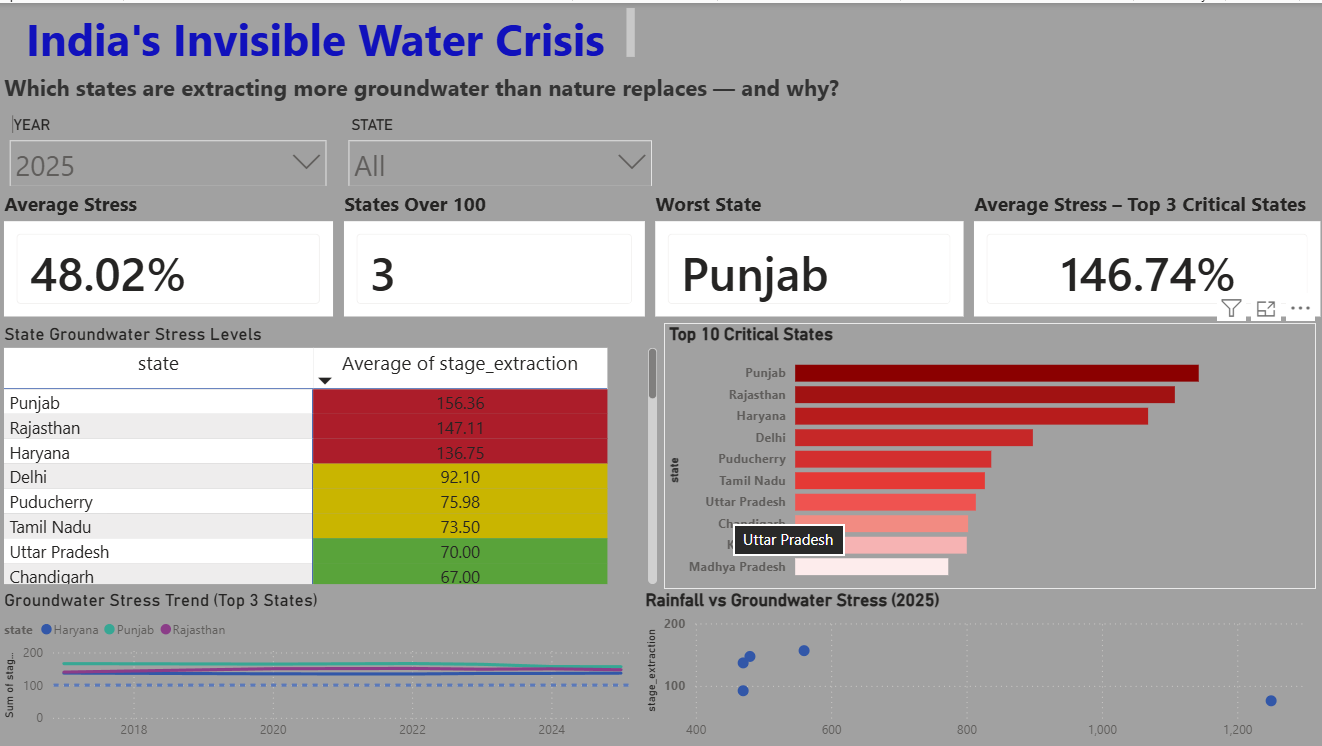

What the dashboard file says about the page in this screenshot:
{"tool":"powerbi","page":{"name":"Overview","canvas":[1280,720],"ordinal":0},"visuals":[{"type":"textbox","box":[0,0,618.6,61.4],"z":0},{"type":"textbox","box":[0,61.4,1087.1,42.9],"z":1000},{"type":"slicer","fields":{"Values":["public groundwater.year"]},"box":[0,104.3,325.7,72.9],"z":2000},{"type":"slicer","fields":{"Values":["public groundwater.state"]},"box":[327.1,104.3,312.9,72.9],"z":3000},{"type":"cardVisual","title":"Average Stress","fields":{"Data":["public groundwater.Avg Stage Extraction"]},"box":[0,181.4,327.1,127.1],"z":4000},{"type":"cardVisual","title":"Worst State","fields":{"Data":["public groundwater.Worst State"]},"box":[628.6,181.4,307.1,127.1],"z":5000},{"type":"cardVisual","title":"States Over 100","fields":{"Data":["public groundwater.States Over 100"]},"box":[328.6,181.4,300,127.1],"z":6000},{"type":"cardVisual","title":"Average Stress – Top 3 Critical States","fields":{"Data":["public groundwater.Avg Stage Extraction"]},"box":[935.7,181.4,344.3,127.1],"z":7000},{"type":"pivotTable","title":"State Groundwater Stress Levels","fields":{"Rows":["public groundwater.state"],"Values":["Avg(public groundwater.stage_extraction)"]},"box":[0,308.6,640,257.1],"z":8000},{"type":"clusteredBarChart","title":"Top 10 Critical States","fields":{"Category":["public groundwater.state"],"Y":["Avg(public groundwater.stage_extraction)"]},"box":[641.4,308.6,630,257.1],"z":9000},{"type":"lineChart","title":"Groundwater Stress Trend (Top 3 States)","fields":{"Category":["public groundwater.year"],"Y":["Sum(public groundwater.stage_extraction)"],"Series":["public groundwater.state"]},"box":[0,565.7,618.6,154.3],"z":10000},{"type":"scatterChart","title":"Rainfall vs Groundwater Stress (2025)","fields":{"X":["Avg(public rainfall.rainfall_mm)"],"Y":["public groundwater.stage_extraction"]},"box":[618.5,566.4,661.8,153.5],"z":11000}]}

Visuals, with their boxes in screenshot pixels (x1, y1, x2, y2), scaled from the page's 1280x720 canvas onto the 1322x746 screenshot:
textbox: x1=0 y1=0 x2=639 y2=64
textbox: x1=0 y1=64 x2=1123 y2=108
slicer - public groundwater.year: x1=0 y1=108 x2=336 y2=184
slicer - public groundwater.state: x1=338 y1=108 x2=661 y2=184
"Average Stress" cardVisual: x1=0 y1=188 x2=338 y2=320
"Worst State" cardVisual: x1=649 y1=188 x2=966 y2=320
"States Over 100" cardVisual: x1=339 y1=188 x2=649 y2=320
"Average Stress – Top 3 Critical States" cardVisual: x1=966 y1=188 x2=1321 y2=320
"State Groundwater Stress Levels" pivotTable: x1=0 y1=320 x2=661 y2=586
"Top 10 Critical States" clusteredBarChart: x1=662 y1=320 x2=1313 y2=586
"Groundwater Stress Trend (Top 3 States)" lineChart: x1=0 y1=586 x2=639 y2=745
"Rainfall vs Groundwater Stress (2025)" scatterChart: x1=639 y1=587 x2=1321 y2=745
